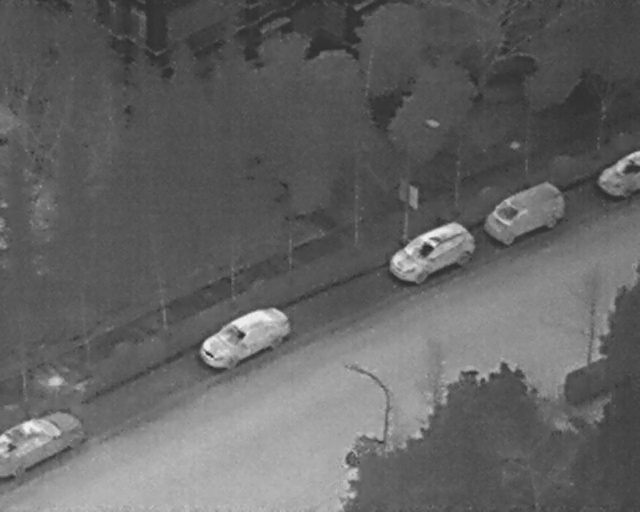Car: (190, 297, 297, 381), (383, 212, 481, 294), (476, 174, 570, 253), (0, 411, 85, 477), (595, 150, 639, 197)
